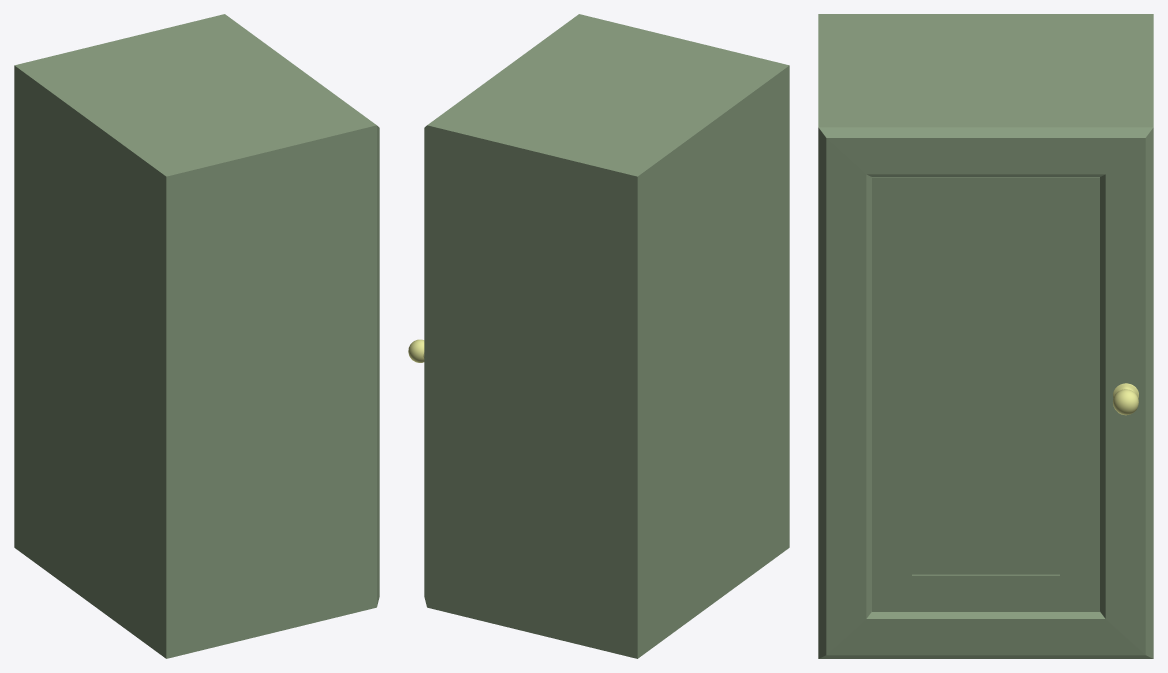
The model's file is Cabinet_Wall2.fbx.
3 views of the same model, side by side, from view 1: azimuth 30°, elevation 25°; view 2: azimuth 150°, elevation 25°; view 3: azimuth 270°, elevation 25° (orthographic). The views are drawn at different scales.
Parts seen in each view (by area): view 1: Cabinet_Wall.001, Door_Left.003; view 2: Cabinet_Wall.001, Door_Left.003; view 3: Door_Left.003, Cabinet_Wall.001.
Boxes of the visible parts, x1=… form: Cabinet_Wall.001: x1=14, y1=17, x2=363, y2=658; Door_Left.003: x1=212, y1=14, x2=379, y2=610; Cabinet_Wall.001: x1=440, y1=17, x2=789, y2=658; Door_Left.003: x1=408, y1=14, x2=591, y2=610; Door_Left.003: x1=818, y1=120, x2=1153, y2=658; Cabinet_Wall.001: x1=818, y1=14, x2=1153, y2=120.
Bounding box in the file's own units: 36.5 × 70 × 40.
